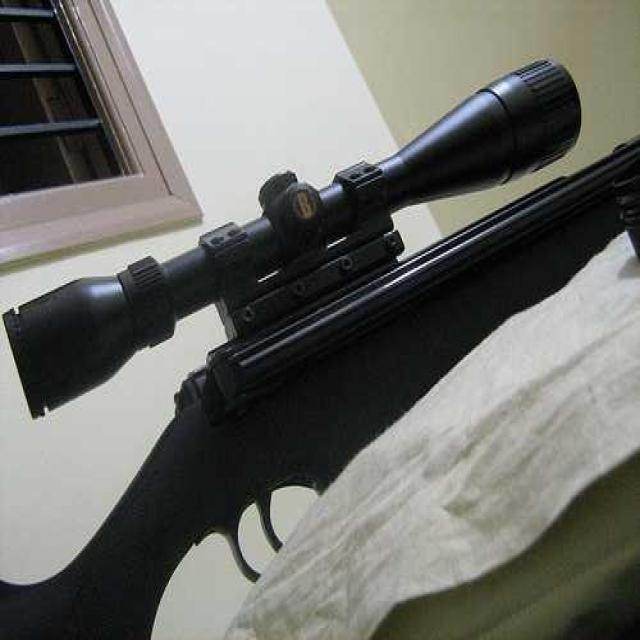heavyweapon: (1, 26, 639, 640)
